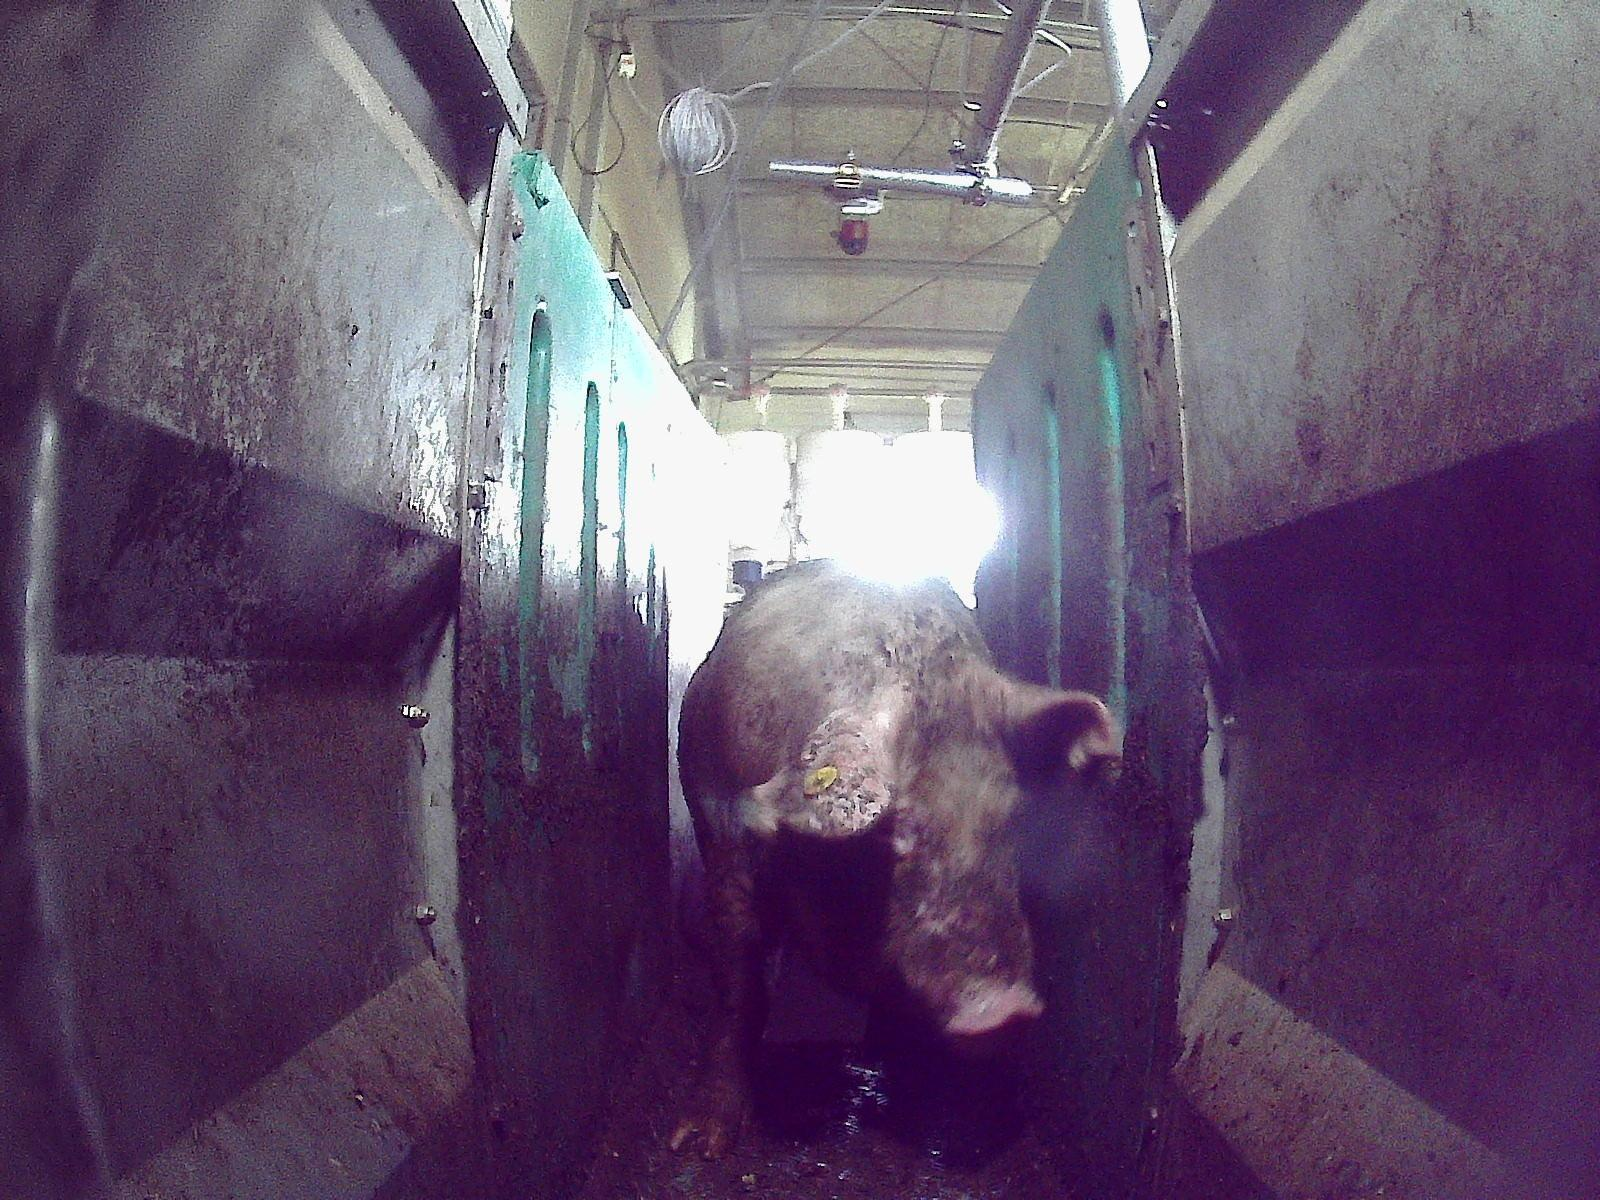Face: (769, 691, 1047, 1060)
